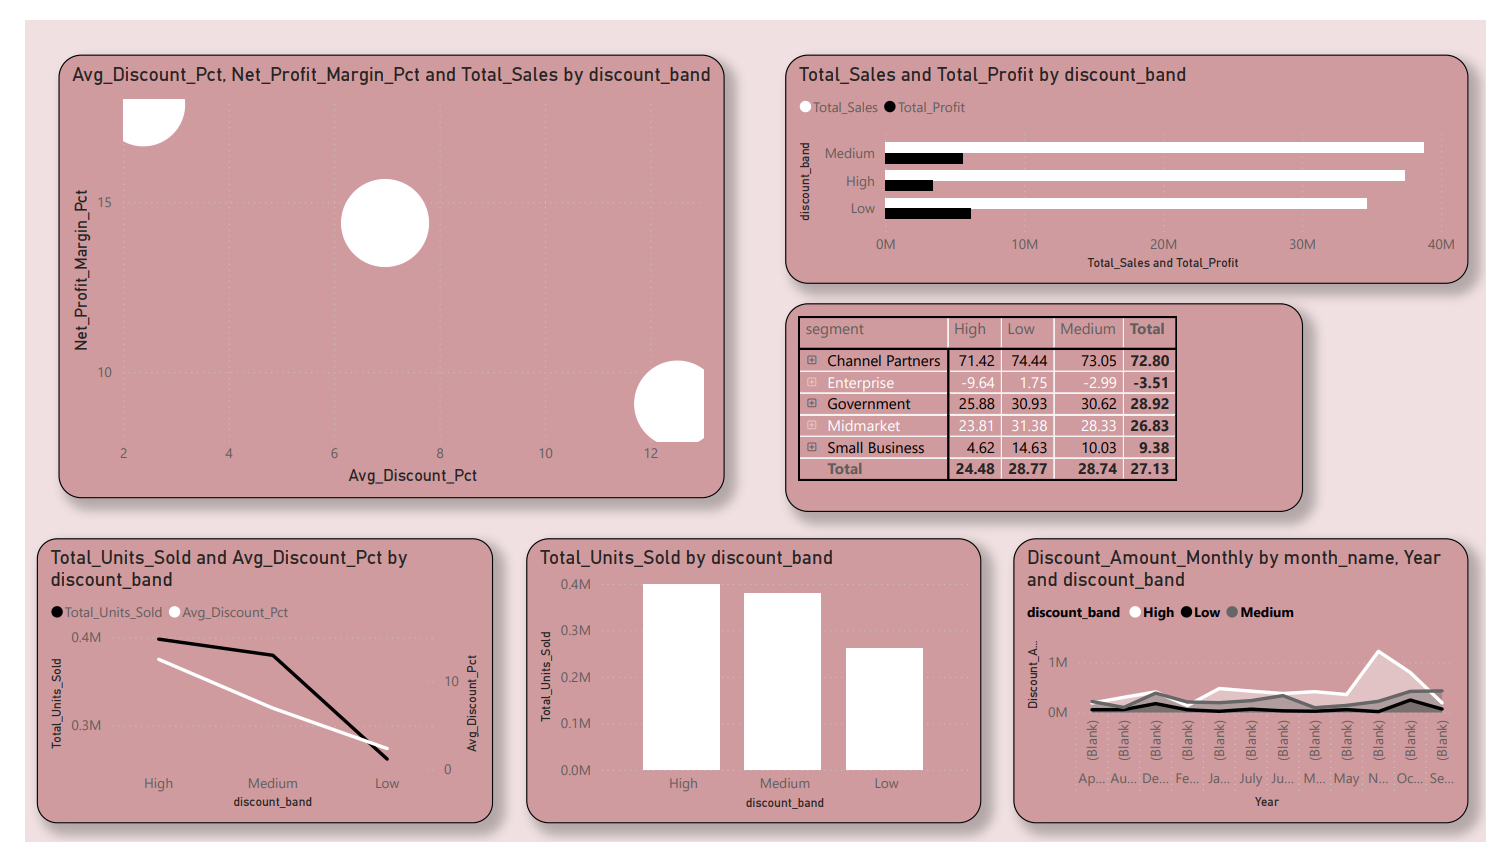

The dashboard page shown, as its layout file describes it:
{"tool":"powerbi","page":{"name":"Page 3","canvas":[1280,720],"ordinal":2},"visuals":[{"type":"scatterChart","fields":{"Category":["financial_operations_db fact_sales.discount_band"],"X":["_Discount_Analysis_Measures.Avg_Discount_Pct"],"Y":["_Financial_Ratios.Net_Profit_Margin_Pct"],"Size":["_Measures.Total_Sales"]},"box":[28.8,30.2,584.6,388.3],"z":0},{"type":"clusteredBarChart","fields":{"Category":["financial_operations_db fact_sales.discount_band"],"Y":["_Measures.Total_Sales","_Measures.Total_Profit"]},"box":[665.5,30.2,599.7,200.3],"z":1000},{"type":"lineChart","fields":{"Category":["financial_operations_db fact_sales.discount_band"],"Y":["_Measures.Total_Units_Sold"],"Y2":["_Discount_Analysis_Measures.Avg_Discount_Pct"]},"box":[9.6,454.2,400.7,249.7],"z":2000},{"type":"clusteredColumnChart","fields":{"Category":["financial_operations_db fact_sales.discount_band"],"Y":["_Measures.Total_Units_Sold"]},"box":[439.1,454.2,399.3,249.7],"z":3000},{"type":"areaChart","fields":{"Category":["financial_operations_db fact_sales.month_name","Date_Dimension.Year"],"Y":["_Discount_Analysis_Measures.Discount_Amount_Monthly"],"Series":["financial_operations_db fact_sales.discount_band"]},"box":[865.9,454.2,399.3,249.7],"z":4000},{"type":"pivotTable","fields":{"Rows":["financial_operations_db fact_sales.segment","financial_operations_db fact_sales.product"],"Columns":["financial_operations_db fact_sales.discount_band"],"Values":["_Discount_Analysis_Measures.Avg_Margin_By_Discount"]},"box":[665.5,248.4,454.2,182.5],"z":5000}]}

Visuals, with their boxes in screenshot pixels (x1, y1, x2, y2), scaled from the page's 1280x720 canvas onto the 1510x866 screenshot:
scatterChart - financial_operations_db fact_sales.discount_band x _Discount_Analysis_Measures.Avg_Discount_Pct: bbox=(34, 36, 724, 503)
clusteredBarChart - financial_operations_db fact_sales.discount_band x _Measures.Total_Sales: bbox=(785, 36, 1493, 277)
lineChart - financial_operations_db fact_sales.discount_band x _Measures.Total_Units_Sold: bbox=(11, 546, 484, 847)
clusteredColumnChart - financial_operations_db fact_sales.discount_band x _Measures.Total_Units_Sold: bbox=(518, 546, 989, 847)
areaChart - financial_operations_db fact_sales.month_name x Date_Dimension.Year: bbox=(1021, 546, 1493, 847)
pivotTable - financial_operations_db fact_sales.segment x financial_operations_db fact_sales.product: bbox=(785, 299, 1321, 518)
